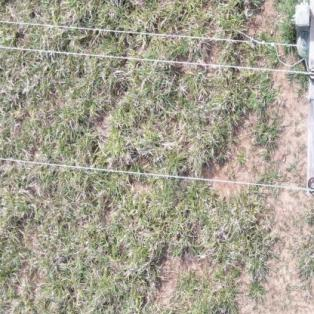Poste: (290, 0, 310, 48)
